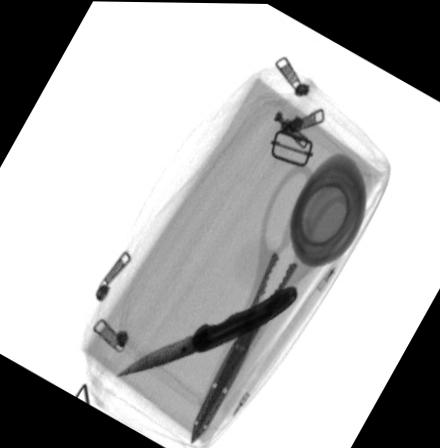Knife: (117, 282, 298, 376)
Scissors: (190, 160, 360, 444)
